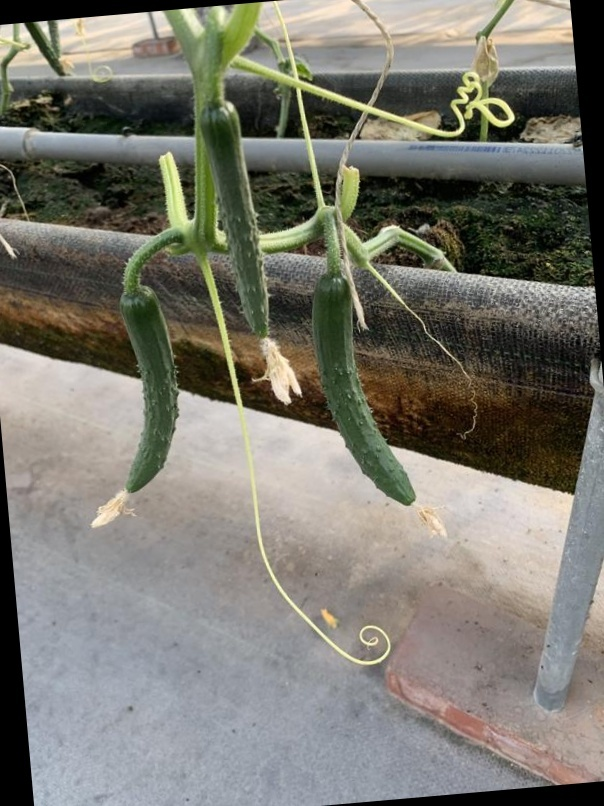growth: (193, 100, 278, 383), (108, 283, 184, 505)
mature: (307, 266, 427, 514), (109, 283, 183, 503)
